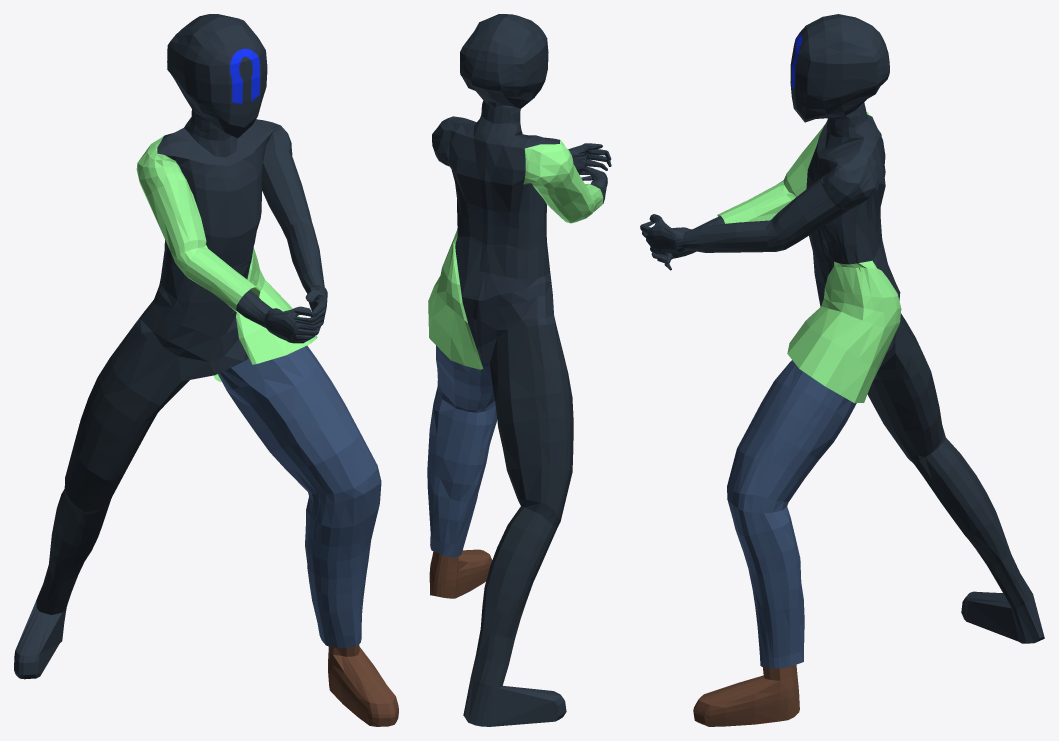
The model's file is Mar_WL_000017.obj.
3 renders of one model, left to right at view 1: azimuth 30°, elevation 25°; view 2: azimuth 150°, elevation 25°; view 3: azimuth 270°, elevation 25°, orthographic. The views are drawn at different scales.
Visible parts, largest first — view 1: Cube.000_Cube.001; view 2: Cube.000_Cube.001; view 3: Cube.000_Cube.001.
Boxes of the visible parts, x1,y1,x2,y2 form: Cube.000_Cube.001: (14,14,398,726); Cube.000_Cube.001: (427,14,611,726); Cube.000_Cube.001: (640,14,1044,726).
Size of the model in its own units: 1.42 by 3.72 by 2.07.
